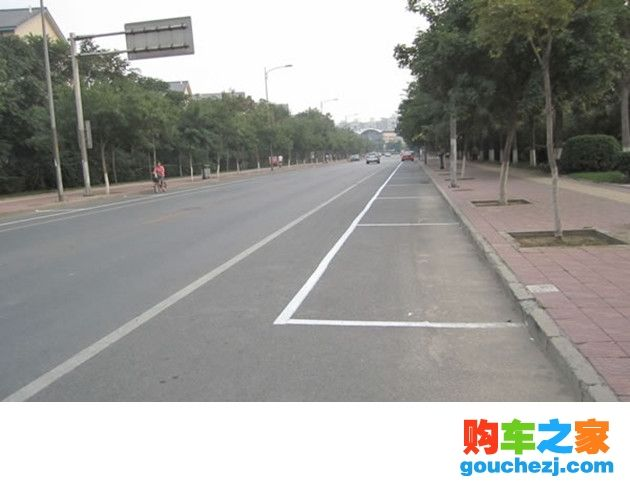slot_nocar: (277, 214, 536, 339), (332, 189, 474, 236), (364, 179, 456, 205), (380, 168, 444, 190), (389, 155, 430, 175)
